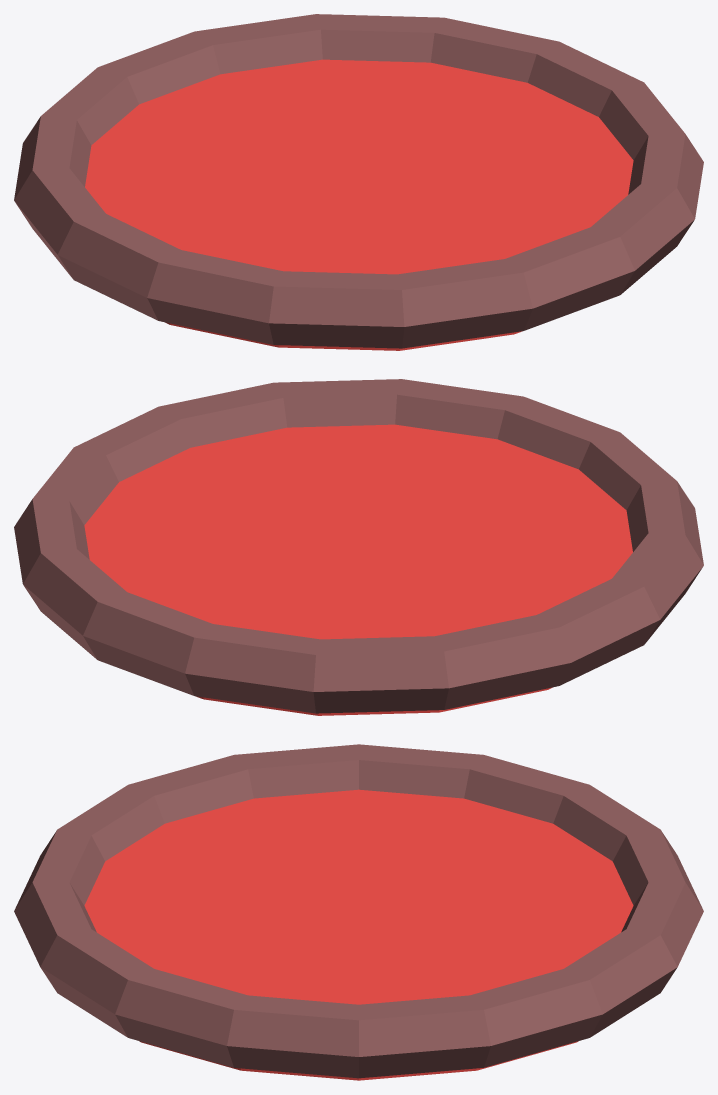
File: SH10_L08_BloodBasin.fbx
3 views of the same model, one above another, from view 1: azimuth 30°, elevation 25°; view 2: azimuth 150°, elevation 25°; view 3: azimuth 270°, elevation 25° (orthographic).
Parts seen in each view (by area): view 1: SH10_L08_BloodBasin; view 2: SH10_L08_BloodBasin; view 3: SH10_L08_BloodBasin.
Part boxes in pixels (<box>): SH10_L08_BloodBasin: <box>14,14,703,350</box>; SH10_L08_BloodBasin: <box>14,379,703,715</box>; SH10_L08_BloodBasin: <box>14,744,703,1080</box>.
Bounding box in the file's own units: 224 × 24.39 × 224.
